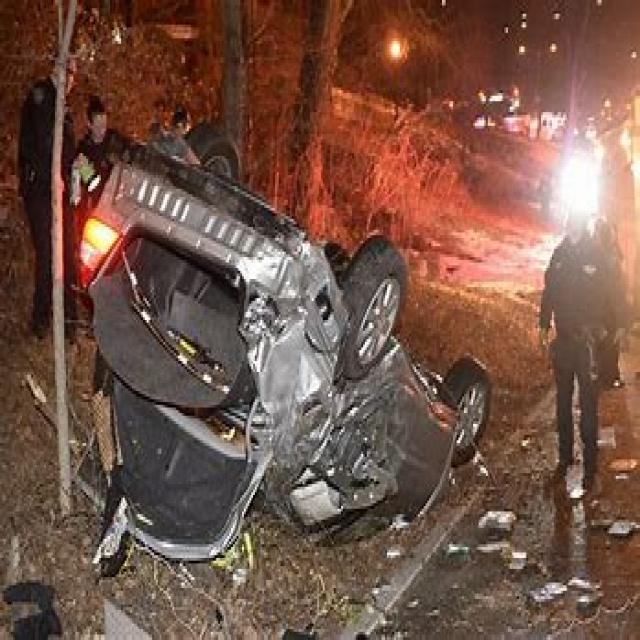Accident: (85, 134, 506, 575)
